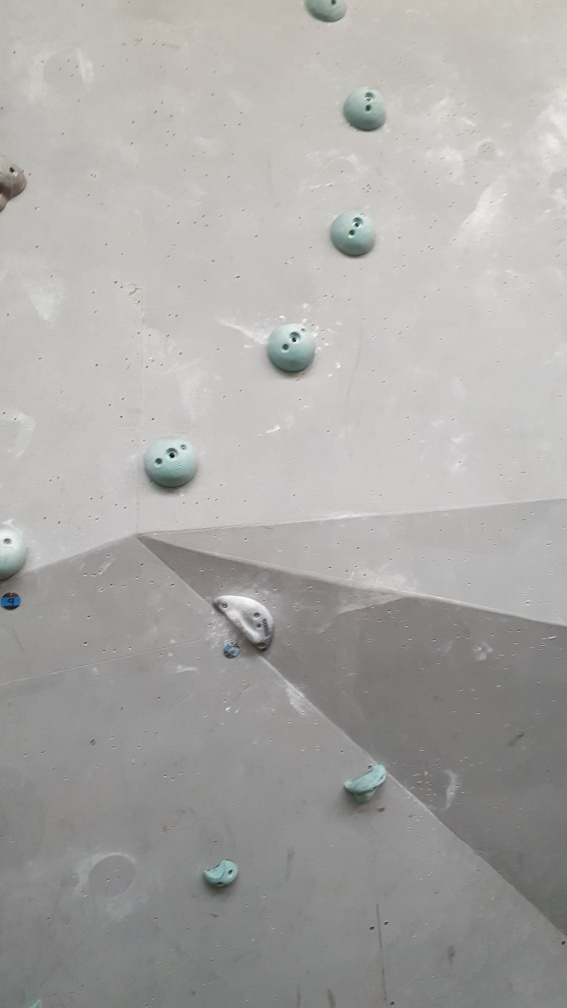Hand Start: (222, 638, 242, 661), (1, 591, 22, 611)
Jug: (343, 758, 388, 809)
Sloper: (142, 432, 202, 490), (263, 323, 318, 379), (328, 207, 378, 258), (342, 82, 388, 135), (1, 525, 31, 582), (302, 1, 350, 22)
